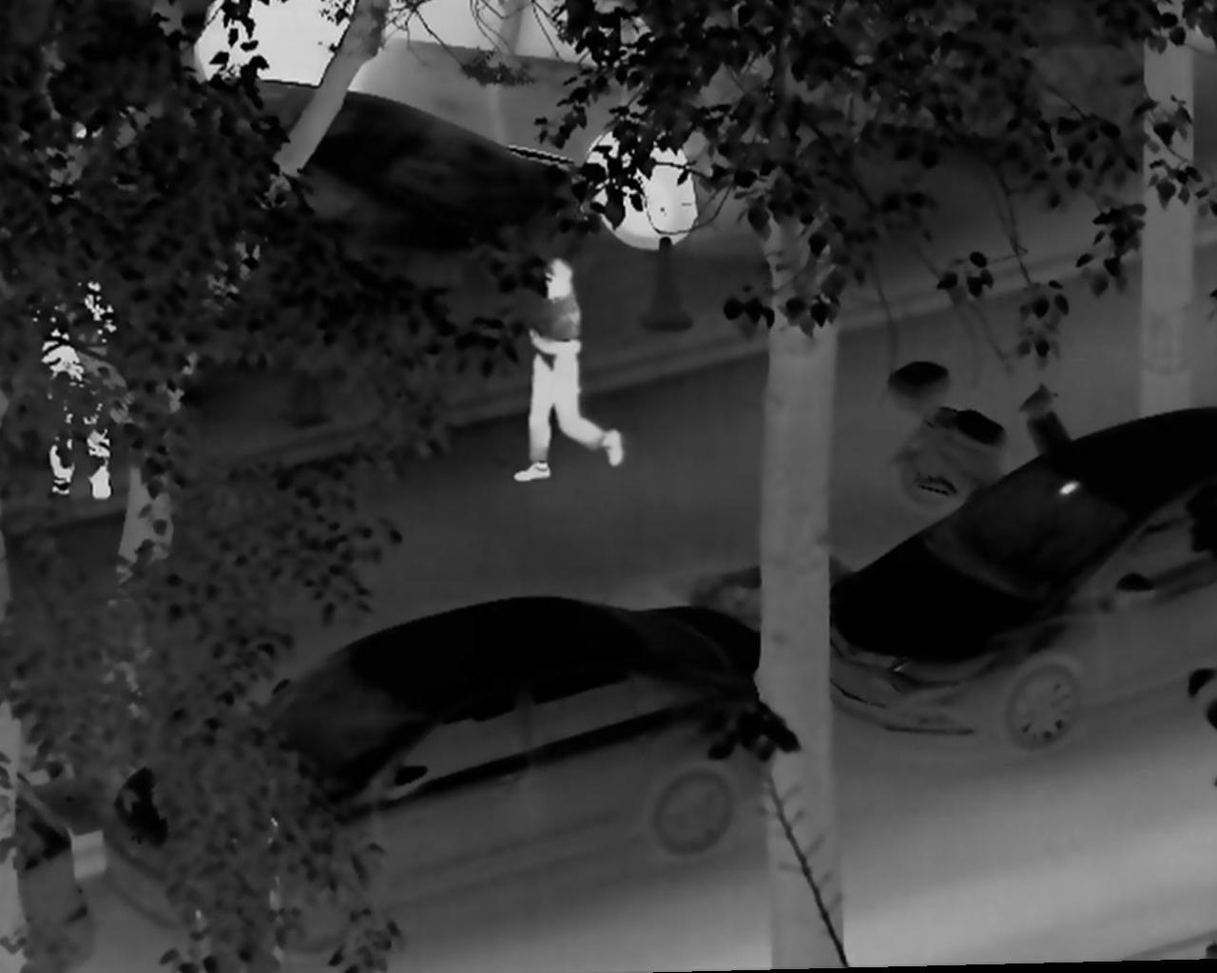person: (506, 255, 626, 485), (20, 246, 120, 507)
